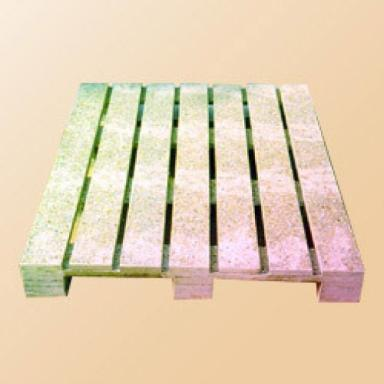pallet: (18, 82, 365, 304)
